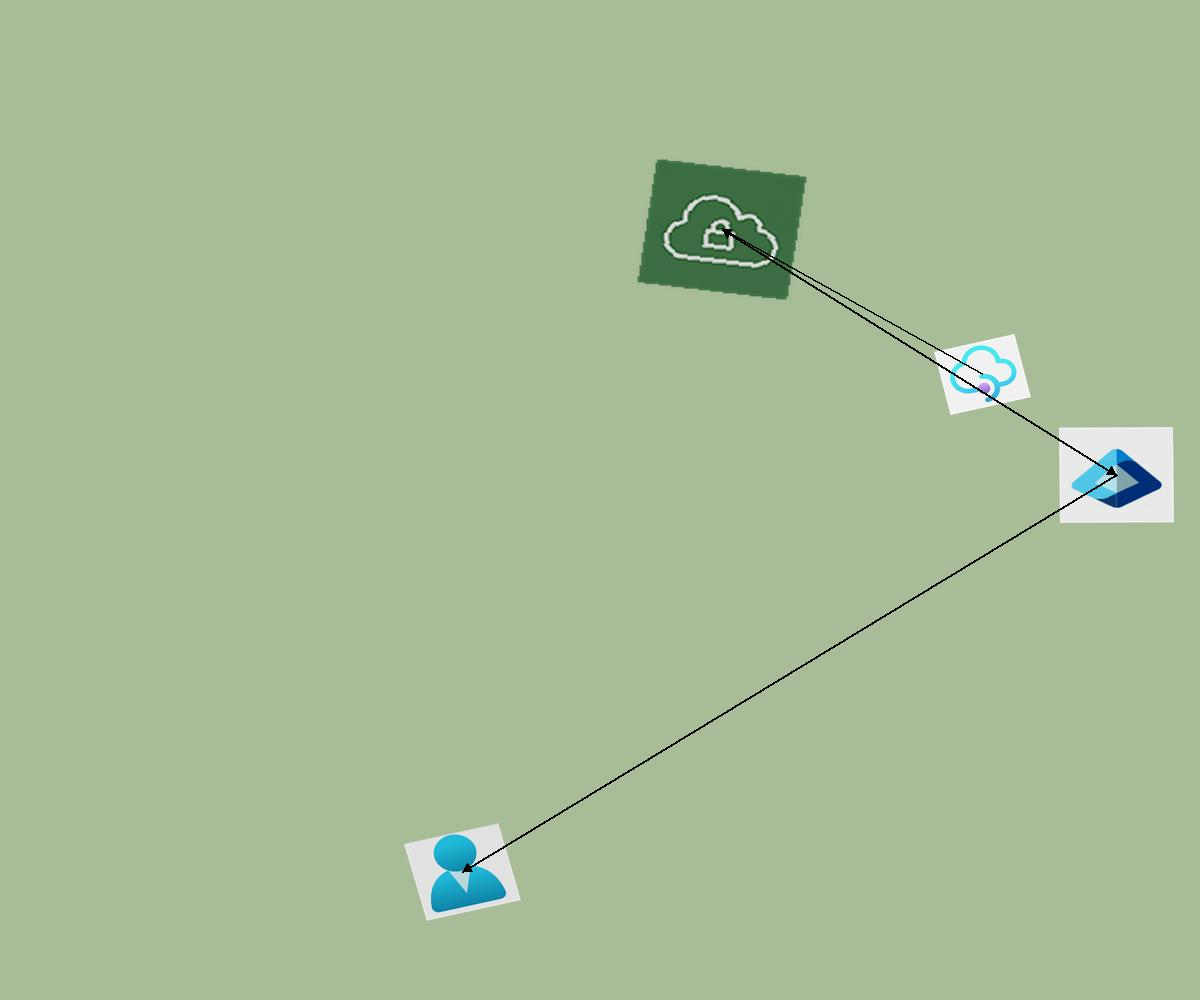AWS-Private_vpc: (636, 158, 808, 301)
Azure_api_gateway: (934, 334, 1031, 415)
Azure_microsoft_entra: (1059, 427, 1174, 523)
Azure_users: (404, 823, 521, 921)
